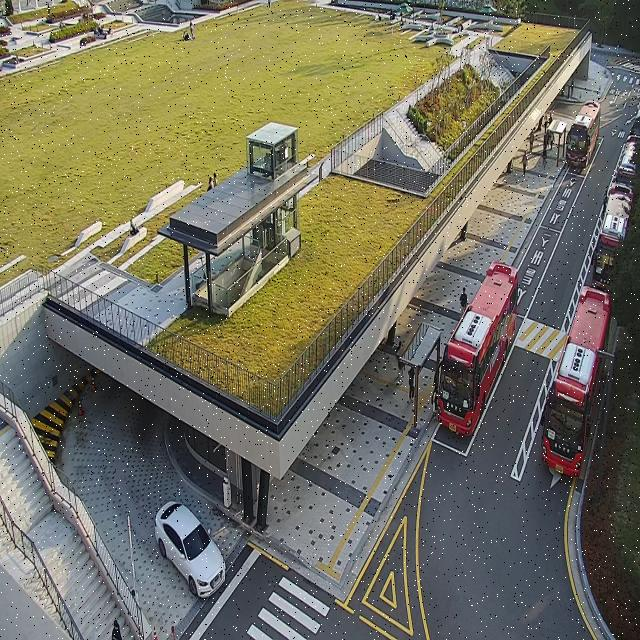queue: (414, 328, 440, 429)
